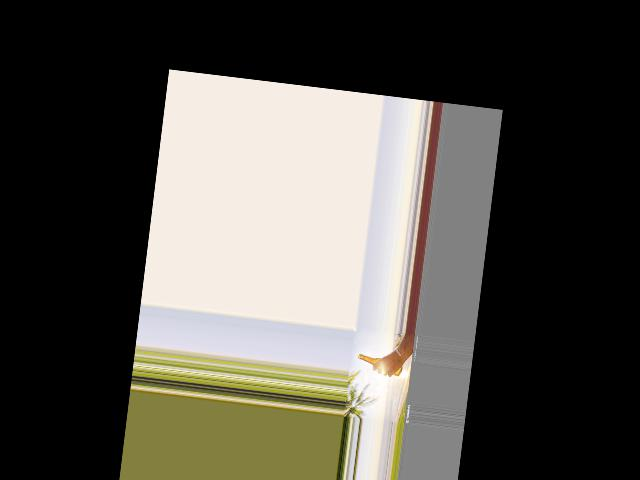beer: (357, 353, 404, 376)
